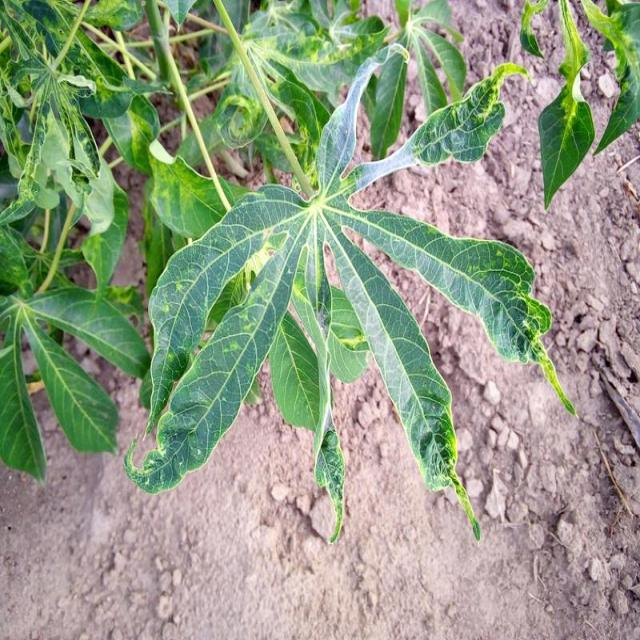cassava leaf: (122, 42, 577, 544)
